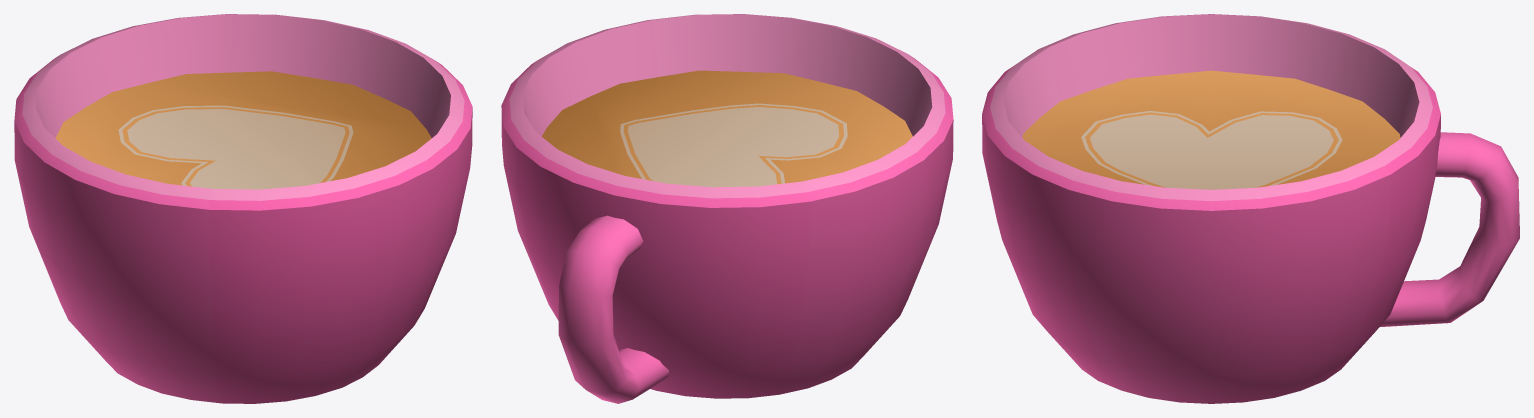
The model's file is Cofe Cup Heart_1.fbx.
3 renders of one model, left to right at view 1: azimuth 30°, elevation 25°; view 2: azimuth 150°, elevation 25°; view 3: azimuth 270°, elevation 25°, orthographic.
Visible parts, largest first — view 1: Cofe Cup Heart_1; view 2: Cofe Cup Heart_1; view 3: Cofe Cup Heart_1.
Boxes of the visible parts, box(x1,y1,x2,y2) form: Cofe Cup Heart_1: box(14, 14, 472, 403); Cofe Cup Heart_1: box(501, 14, 953, 403); Cofe Cup Heart_1: box(982, 14, 1519, 403).
Bounding box in the file's own units: 0.1 × 0.0579 × 0.1172.
